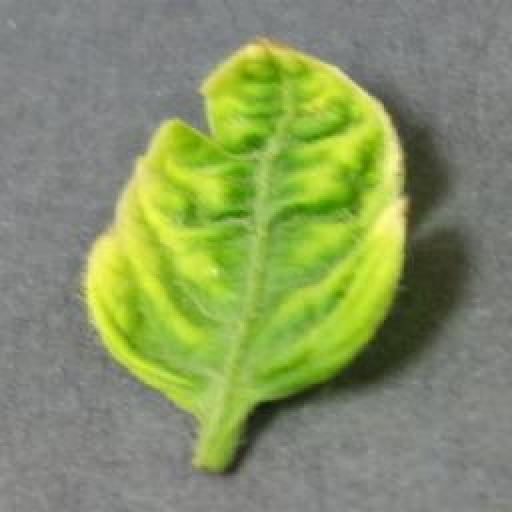Yellow Leaf Curl Virus: (80, 34, 411, 414)
